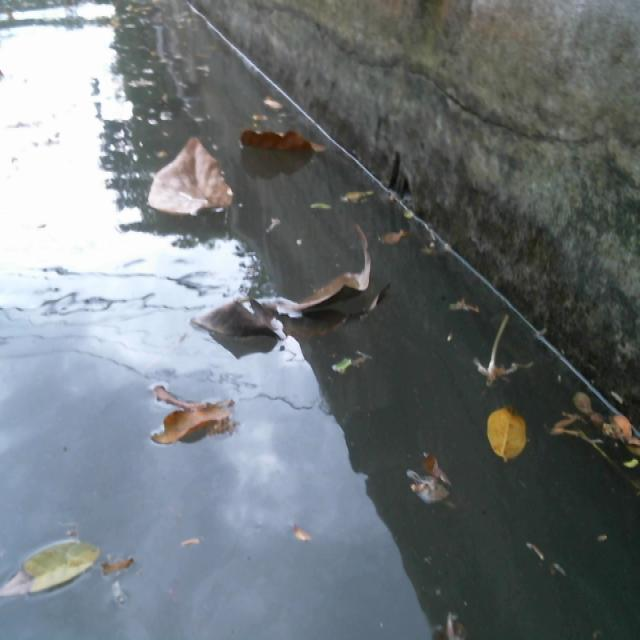Big-leaf: (192, 224, 390, 361), (148, 128, 234, 222), (146, 383, 242, 458), (238, 130, 328, 170)
Small-leaf: (5, 531, 105, 601), (405, 447, 460, 516), (485, 393, 528, 464), (446, 286, 489, 338), (346, 176, 391, 210), (608, 414, 640, 459), (280, 522, 318, 553), (577, 386, 603, 425), (98, 551, 144, 573), (439, 606, 468, 640), (301, 191, 336, 215), (180, 528, 210, 554), (267, 88, 292, 119), (376, 230, 412, 250)
